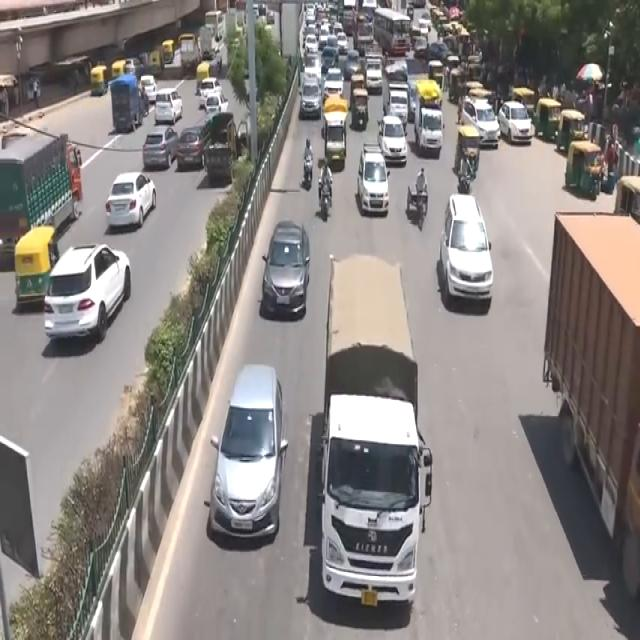MOTORCYCLE: (320, 184, 332, 224)
TRUCK: (320, 254, 424, 625), (546, 218, 638, 636), (412, 81, 444, 161)
